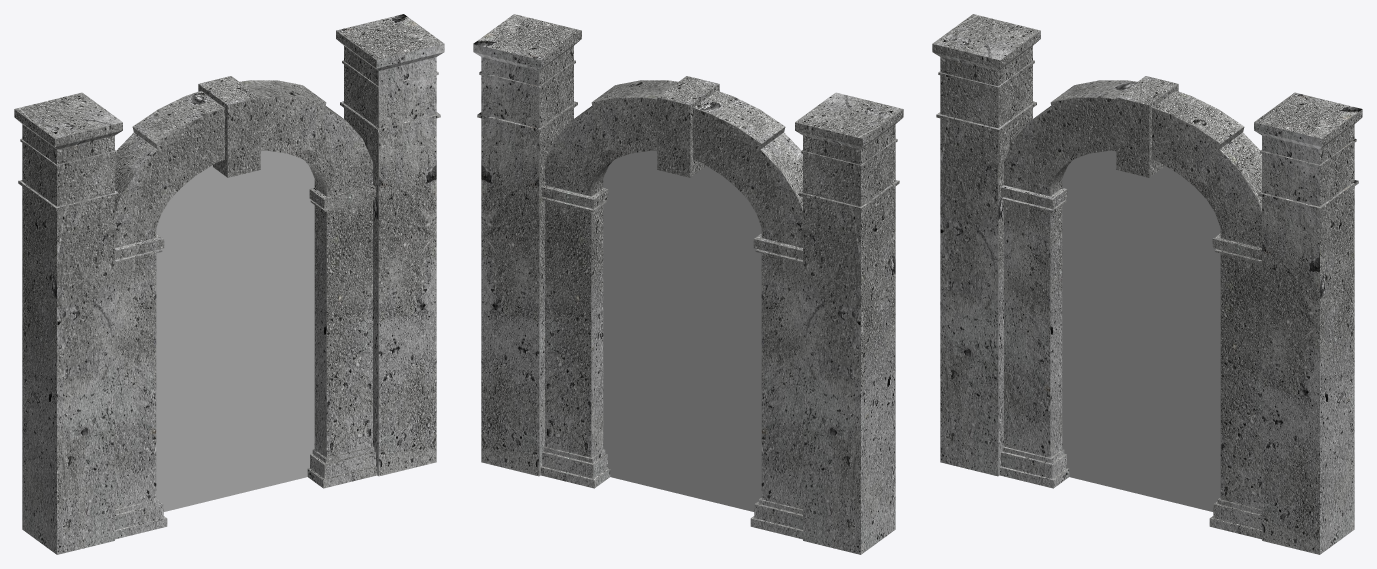
File: portal (1).fbx
3 renders of one model, left to right at view 1: azimuth 30°, elevation 25°; view 2: azimuth 150°, elevation 25°; view 3: azimuth 330°, elevation 25°, orthographic.
Visible parts, largest first — view 1: Portal.001; view 2: Portal.001; view 3: Portal.001.
Boxes of the visible parts, x1,y1,x2,y2 form: Portal.001: [14, 14, 444, 554]; Portal.001: [473, 14, 903, 554]; Portal.001: [932, 14, 1362, 554].
Size of the model in its own units: 263 by 271 by 47.8.
